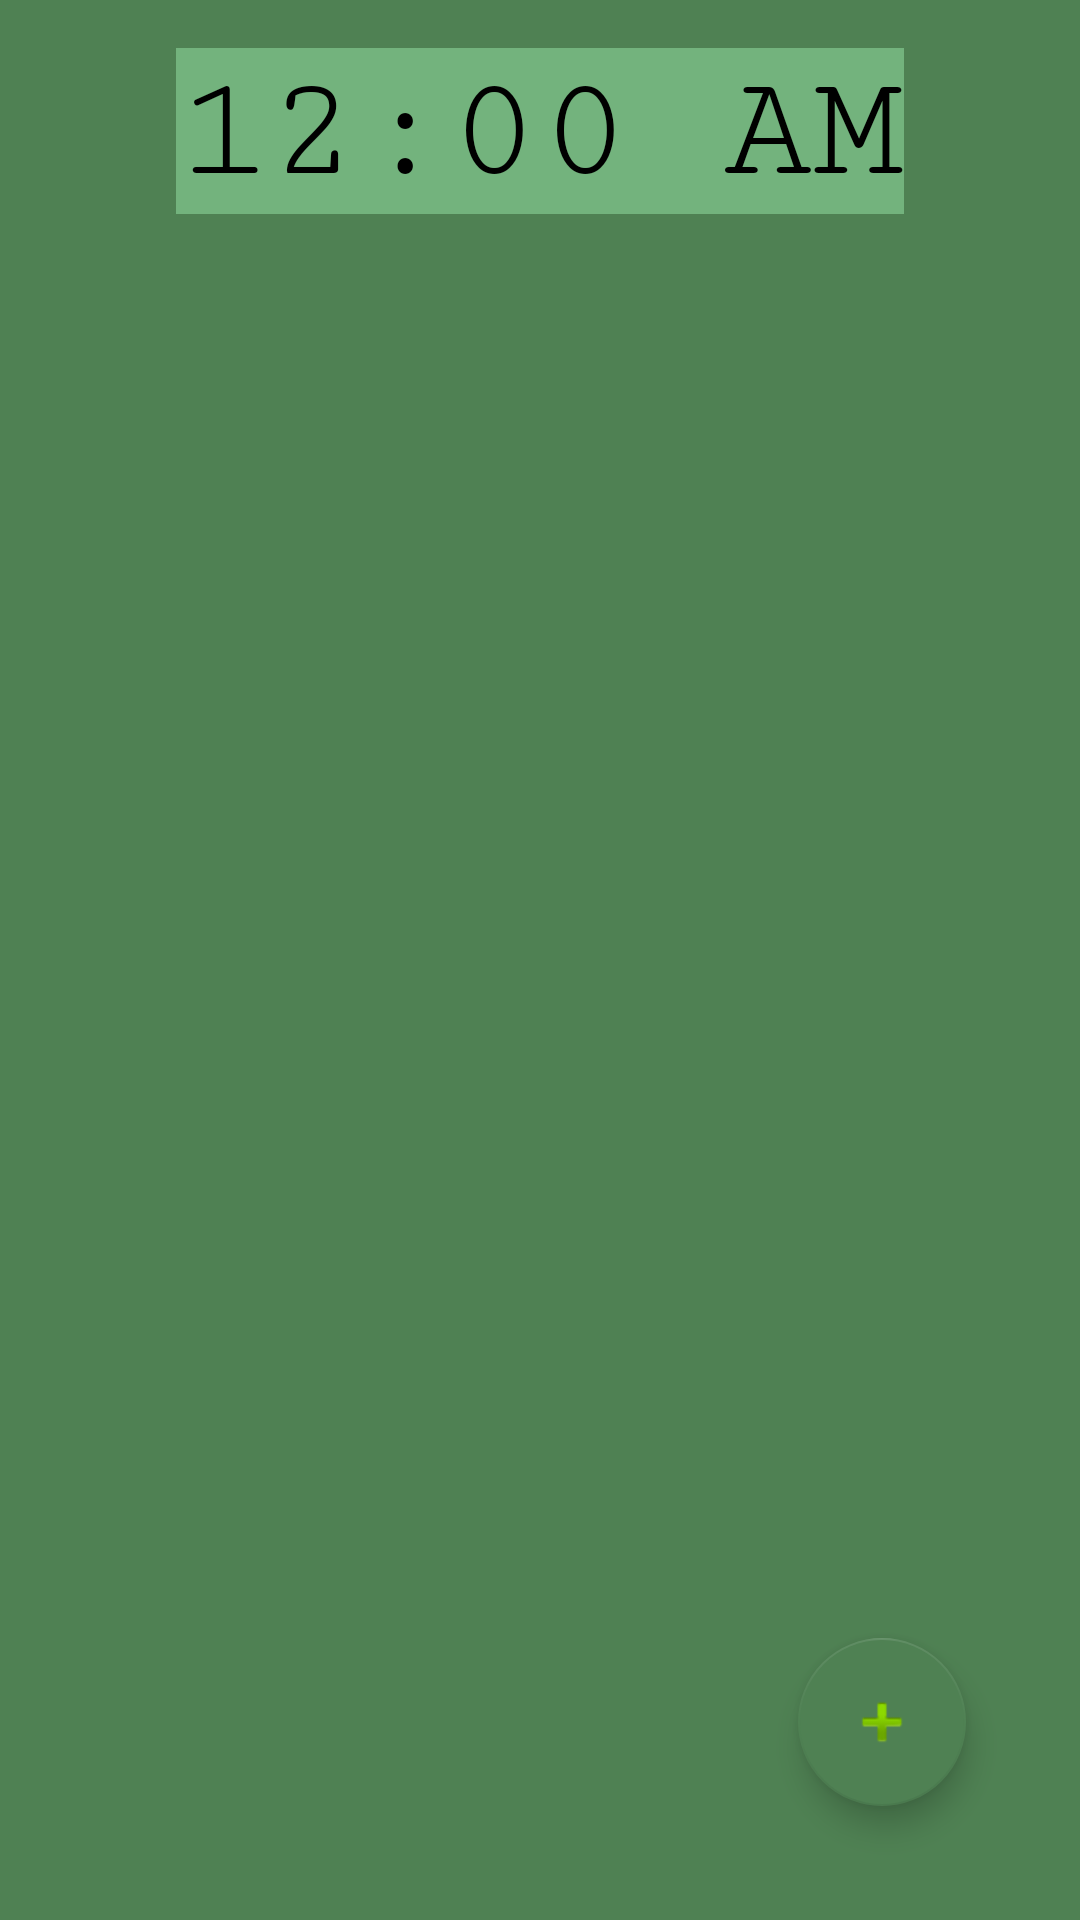

Icons on this 1080w x 1920h Android screen, each with its box as [x1, y1, x2, y2]:
add: [862, 1638, 928, 1806]
